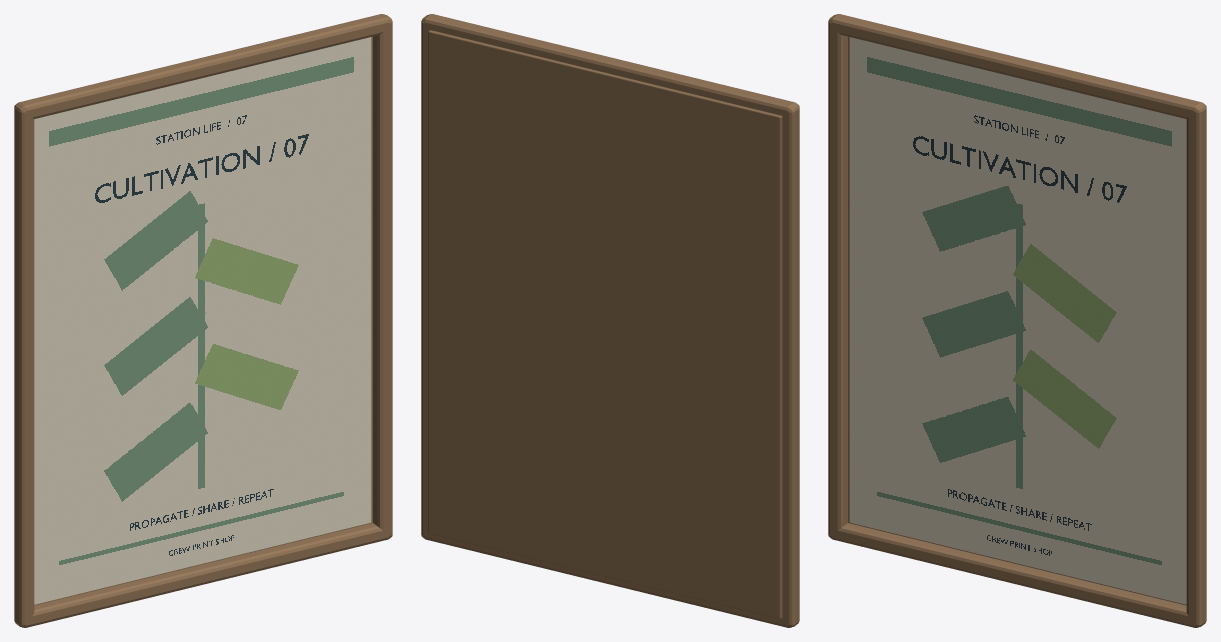
The model's file is lbd_botanical_art.glb.
3 renders of one model, left to right at view 1: azimuth 30°, elevation 25°; view 2: azimuth 150°, elevation 25°; view 3: azimuth 330°, elevation 25°, orthographic.
Visible parts, largest first — view 1: botanical_art__botanical_art_004, botanical_art__frame_007, botanical_art__frame_010, botanical_art__frame_016, botanical_art__frame_013, botanical_art__backing_003; view 2: botanical_art__backing_003, botanical_art__frame_007, botanical_art__frame_016, botanical_art__frame_010, botanical_art__frame_013; view 3: botanical_art__botanical_art_004, botanical_art__frame_010, botanical_art__frame_007, botanical_art__frame_016, botanical_art__frame_013, botanical_art__backing_003.
Part boxes in pixels (bbox=[...]): botanical_art__botanical_art_004: bbox=[34, 37, 371, 604]; botanical_art__frame_007: bbox=[14, 104, 34, 627]; botanical_art__frame_010: bbox=[373, 15, 392, 537]; botanical_art__frame_016: bbox=[17, 14, 390, 118]; botanical_art__frame_013: bbox=[22, 523, 389, 627]; botanical_art__backing_003: bbox=[34, 36, 372, 605]; botanical_art__backing_003: bbox=[428, 30, 782, 618]; botanical_art__frame_007: bbox=[781, 104, 799, 627]; botanical_art__frame_016: bbox=[423, 14, 796, 118]; botanical_art__frame_010: bbox=[421, 15, 430, 537]; botanical_art__frame_013: bbox=[424, 534, 791, 627]; botanical_art__botanical_art_004: bbox=[849, 37, 1186, 604]; botanical_art__frame_010: bbox=[1186, 104, 1206, 627]; botanical_art__frame_007: bbox=[828, 15, 847, 537]; botanical_art__frame_016: bbox=[830, 14, 1203, 118]; botanical_art__frame_013: bbox=[831, 523, 1198, 627]; botanical_art__backing_003: bbox=[848, 36, 1186, 605].
Bounding box in the file's own units: 0.879 × 1.17 × 0.0425.
2 materials, 1 textured.
